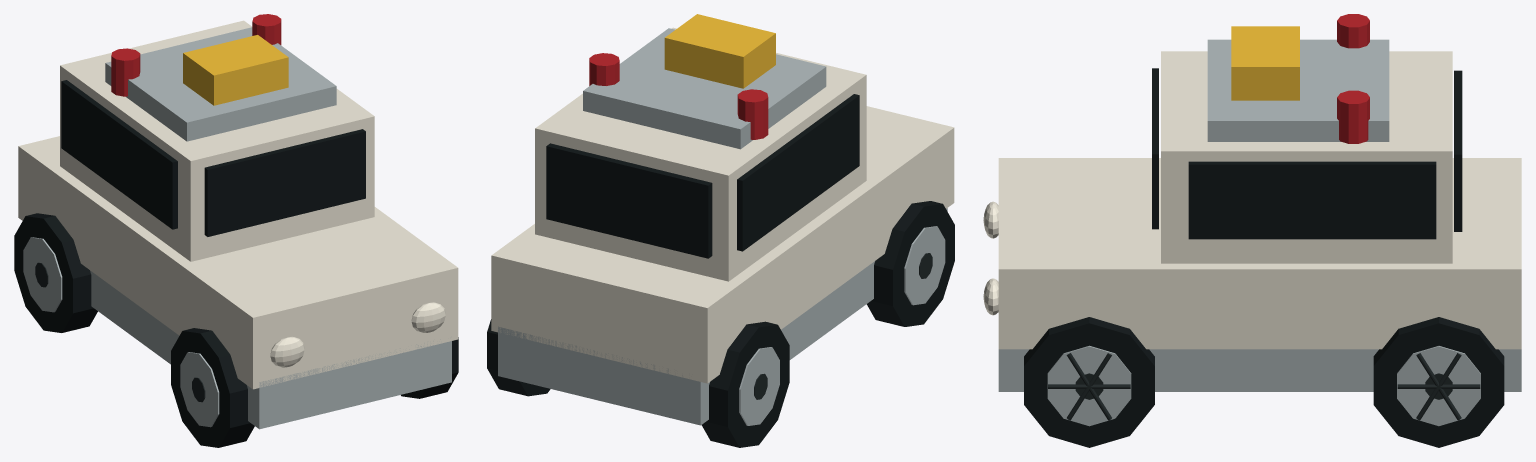
File: good.glb
3 renders of one model, left to right at view 1: azimuth 30°, elevation 25°; view 2: azimuth 150°, elevation 25°; view 3: azimuth 270°, elevation 25°, orthographic. The views are drawn at different scales.
Parts seen in each view (by area): view 1: Cabin, Rear window, Car chassis, Equipment, Red side stripe, Hub; view 2: Cabin, Rear window, Car chassis, Equipment, Red side stripe, Hub; view 3: Cabin, Rear window, Car chassis, Equipment, Hub, Red side stripe.
Part boxes in pixels (bbox=[...]): Cabin: bbox=[18, 20, 458, 389]; Rear window: bbox=[14, 80, 458, 447]; Car chassis: bbox=[23, 27, 451, 429]; Equipment: bbox=[183, 35, 288, 105]; Red side stripe: bbox=[111, 14, 281, 96]; Hub: bbox=[35, 262, 205, 402]; Cabin: bbox=[491, 27, 954, 383]; Rear window: bbox=[487, 94, 954, 447]; Car chassis: bbox=[498, 28, 947, 425]; Equipment: bbox=[664, 14, 775, 88]; Red side stripe: bbox=[589, 53, 768, 139]; Hub: bbox=[754, 253, 932, 399]; Cabin: bbox=[983, 51, 1521, 349]; Rear window: bbox=[1024, 68, 1504, 447]; Car chassis: bbox=[998, 39, 1521, 426]; Equipment: bbox=[1231, 26, 1299, 100]; Hub: bbox=[1048, 353, 1480, 420]; Red side stripe: bbox=[1337, 14, 1369, 143].
Size of the model in its own units: 0.5484 by 0.68 by 0.9775.
